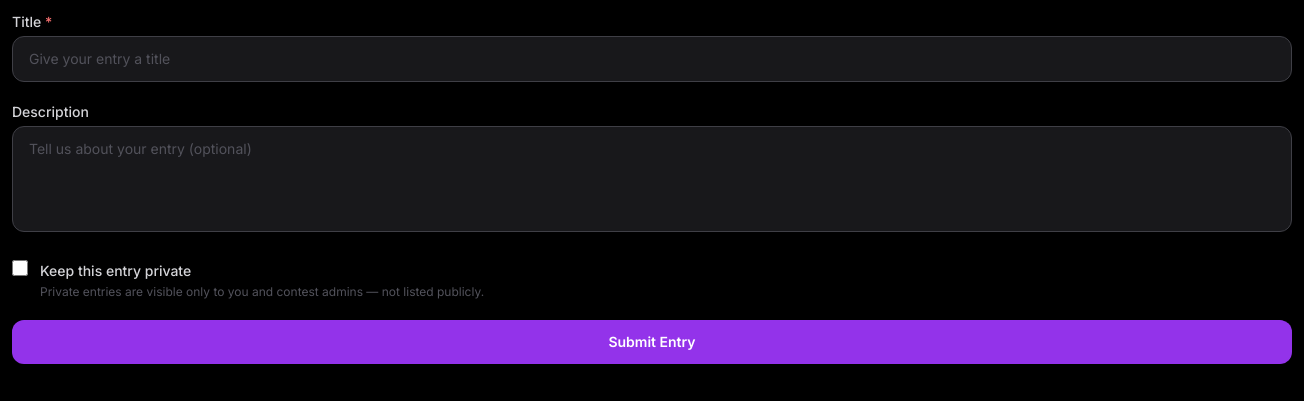
EntrySubmissionForm › shows error if title is empty on submit
Click the button "Submit Entry". click: click(652, 342)
box: [12, 320, 1292, 364]
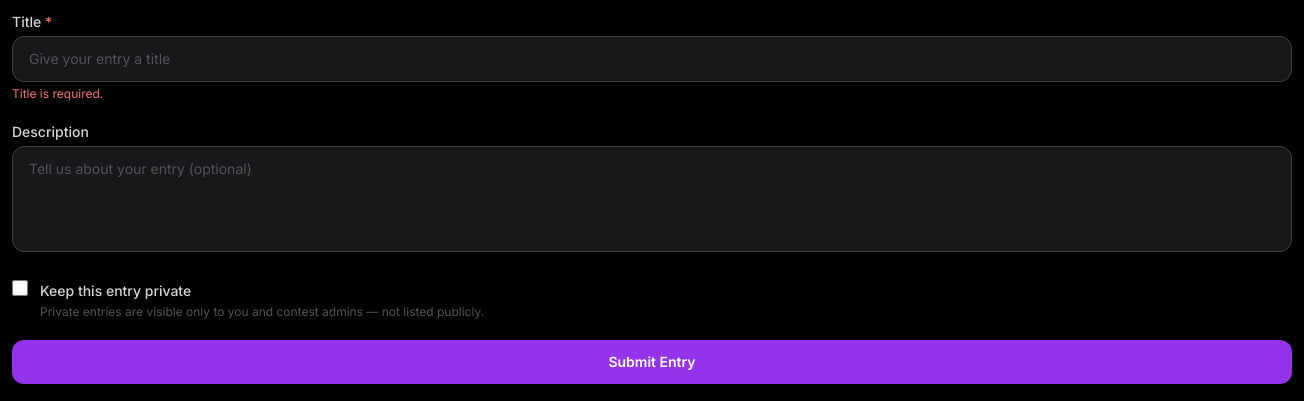
Now the text "Title is required." is shown, box [12, 86, 103, 101]
